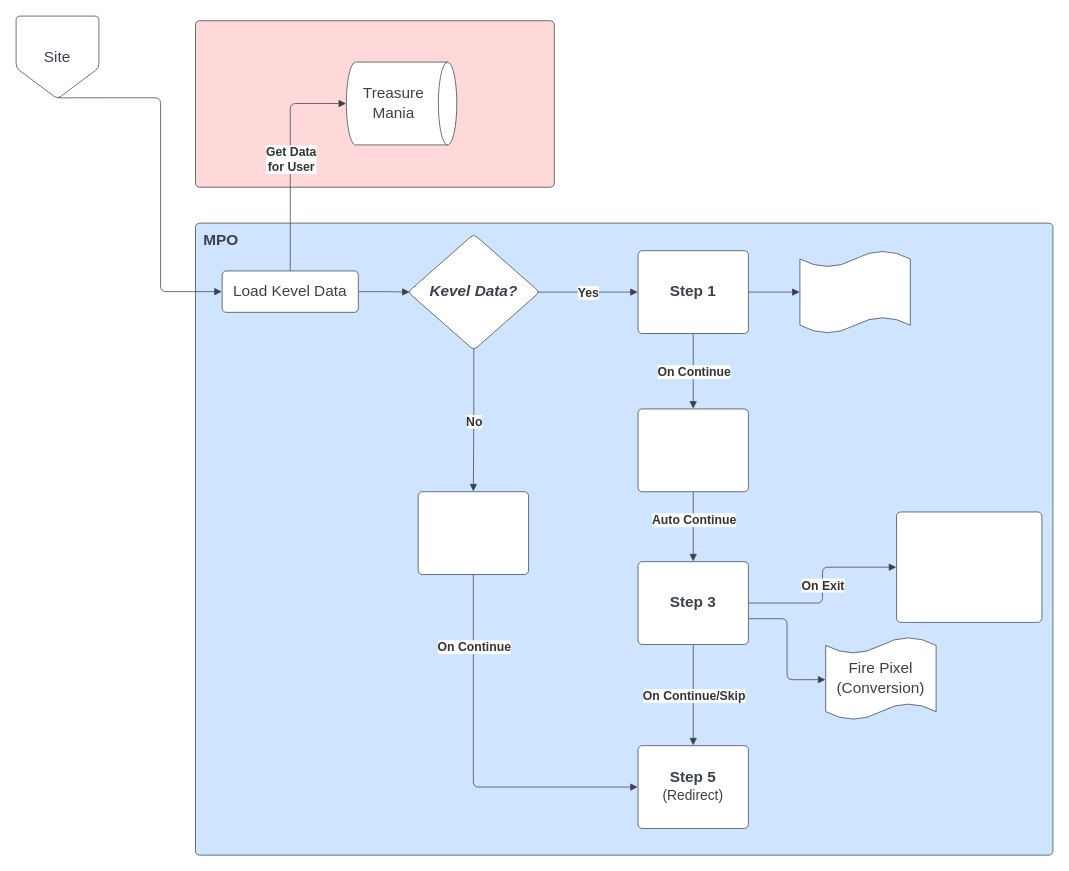
The diagram is 1069 pixels wide and 871 high, and some of its shapes have lost their labels. Here are the shapes that lost their labels. From the top down, the box of each, then its label:
(195, 20, 554, 187): Kevel
(799, 250, 910, 333): Fire Pixel (Impression)
(637, 408, 748, 492): Step 2
(417, 491, 528, 574): Step 4
(896, 511, 1042, 622): Kevel Click URL (different Tab)
